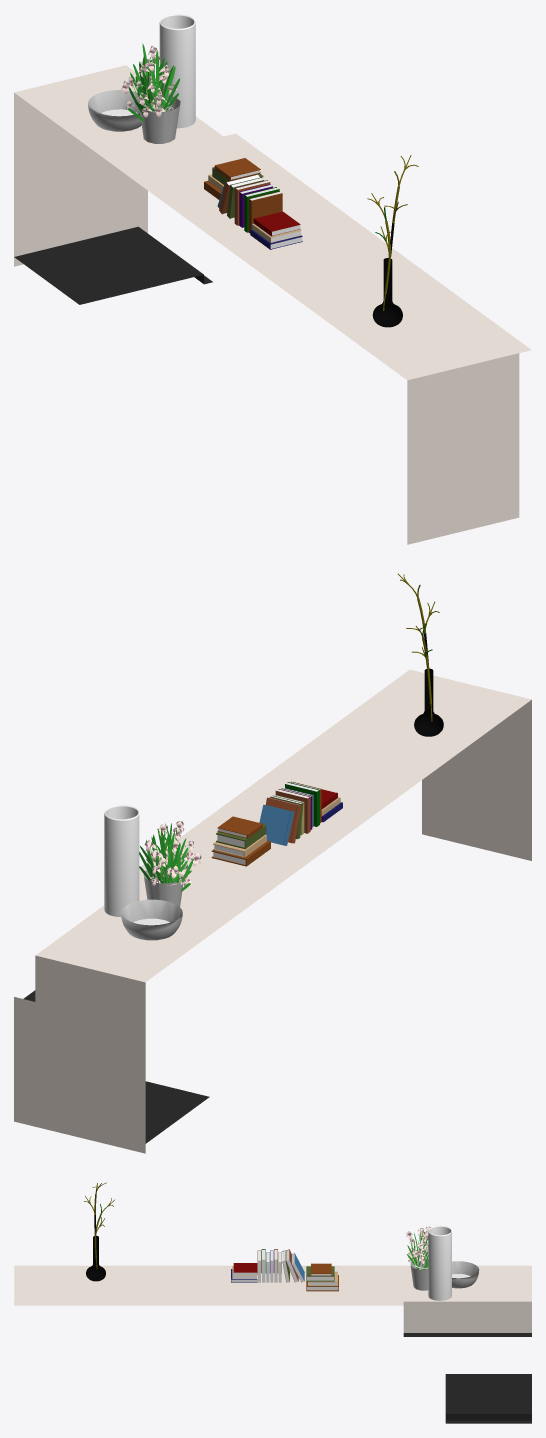
Rendered from desk1.obj.
3 views of the same model, one above another, from view 1: azimuth 30°, elevation 25°; view 2: azimuth 150°, elevation 25°; view 3: azimuth 270°, elevation 25° (orthographic). The views are drawn at different scales.
Parts seen in each view (by area): view 1: Bedroom1_polySurface3 all; view 2: Bedroom1_polySurface3 all; view 3: Bedroom1_polySurface3 all.
Boxes of the visible parts, bbox=[...] form: Bedroom1_polySurface3 all: bbox=[14, 14, 531, 544]; Bedroom1_polySurface3 all: bbox=[14, 573, 531, 1153]; Bedroom1_polySurface3 all: bbox=[14, 1182, 531, 1423].
Size of the model in its own units: 94.6 by 226 by 482.
